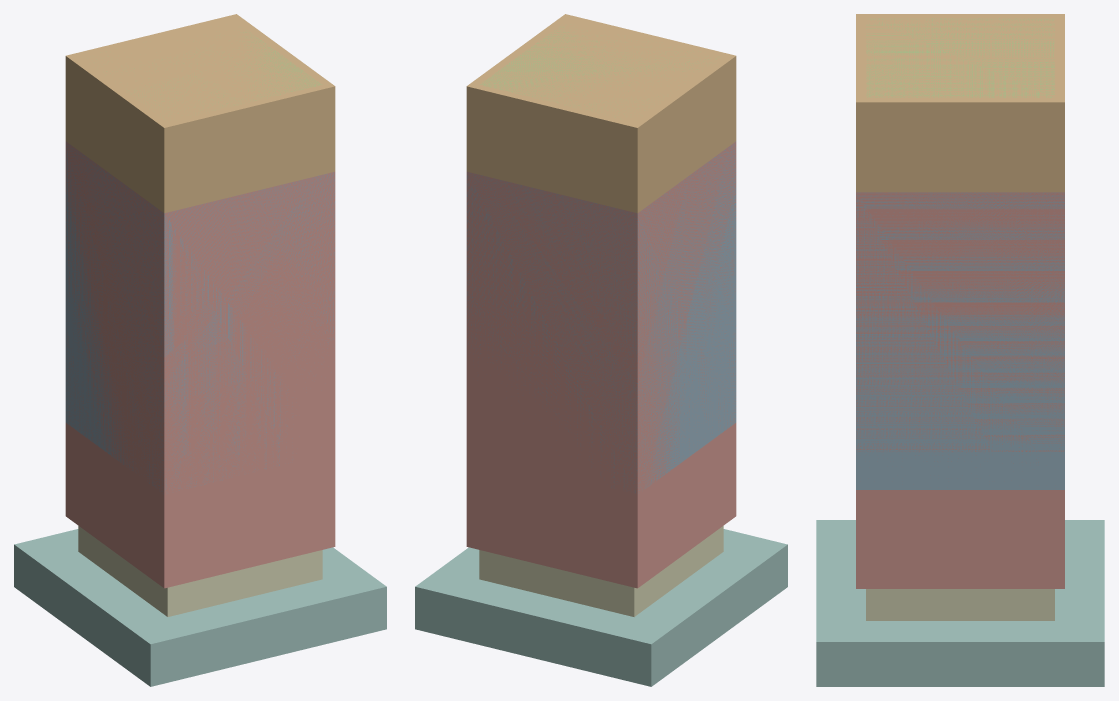
The model's file is bboxes_vis (2).glb.
The picture shows the model from 3 angles, left to right: view 1: azimuth 30°, elevation 25°; view 2: azimuth 150°, elevation 25°; view 3: azimuth 270°, elevation 25°; orthographic projection. The views are drawn at different scales.
Visible parts, largest first — view 1: world; view 2: world; view 3: world.
Part boxes in pixels (bbox=[...]): world: bbox=[14, 14, 386, 686]; world: bbox=[415, 14, 787, 686]; world: bbox=[816, 14, 1104, 686].
Bounding box in the file's own units: 0.4603 × 1 × 0.4603.
